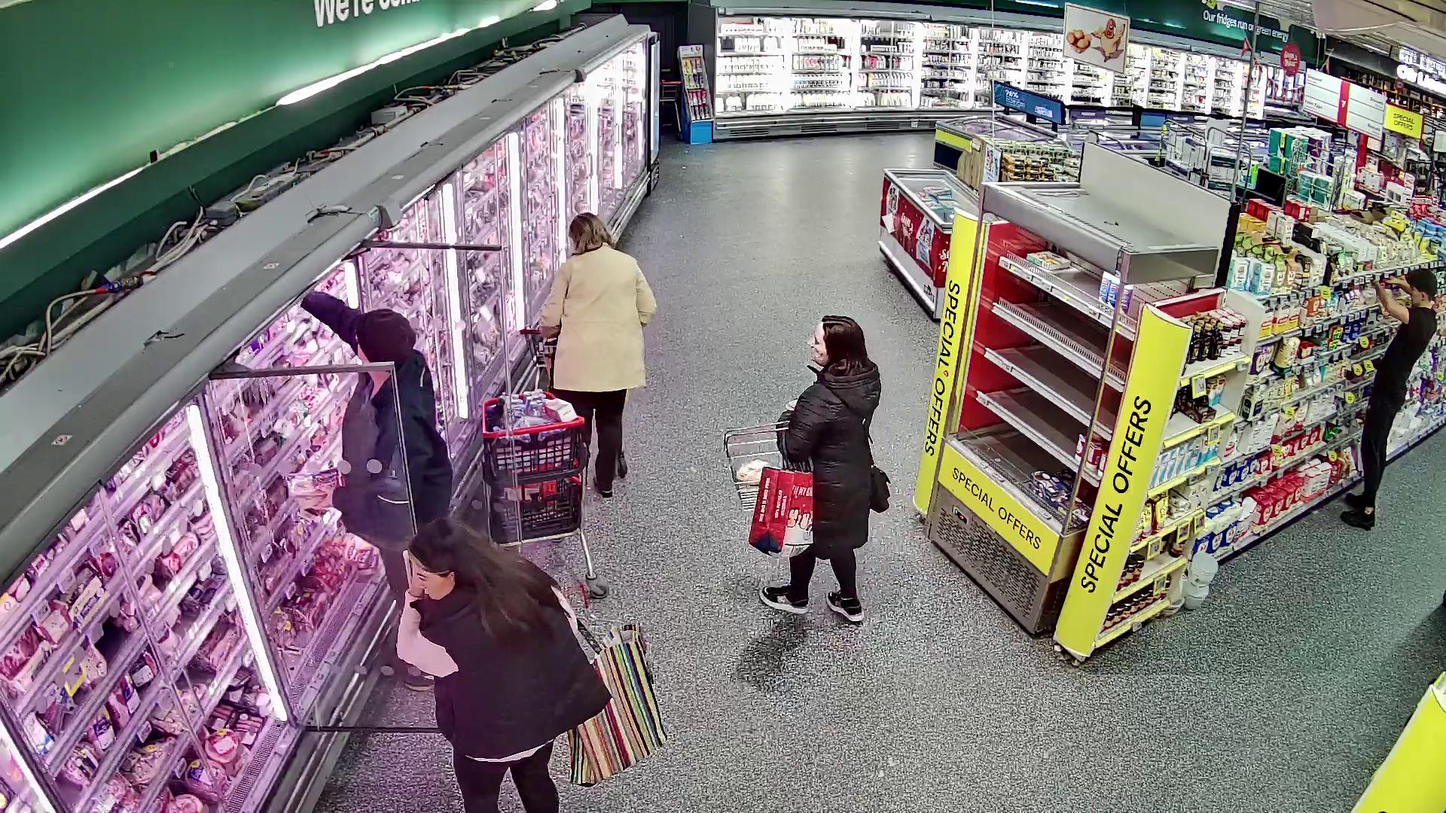backpack-or-handbag: (865, 462, 891, 514)
filled-basket: (722, 422, 795, 511)
filled-shopping-bags: (568, 623, 667, 787), (746, 466, 816, 559)
person: (399, 520, 613, 813), (759, 314, 882, 622)
person-with-basket-trolly-shopping-bag-s-and-backpack-handbag: (722, 314, 891, 622)
person-with-filled-shopping-bag-s-: (398, 519, 667, 813)
